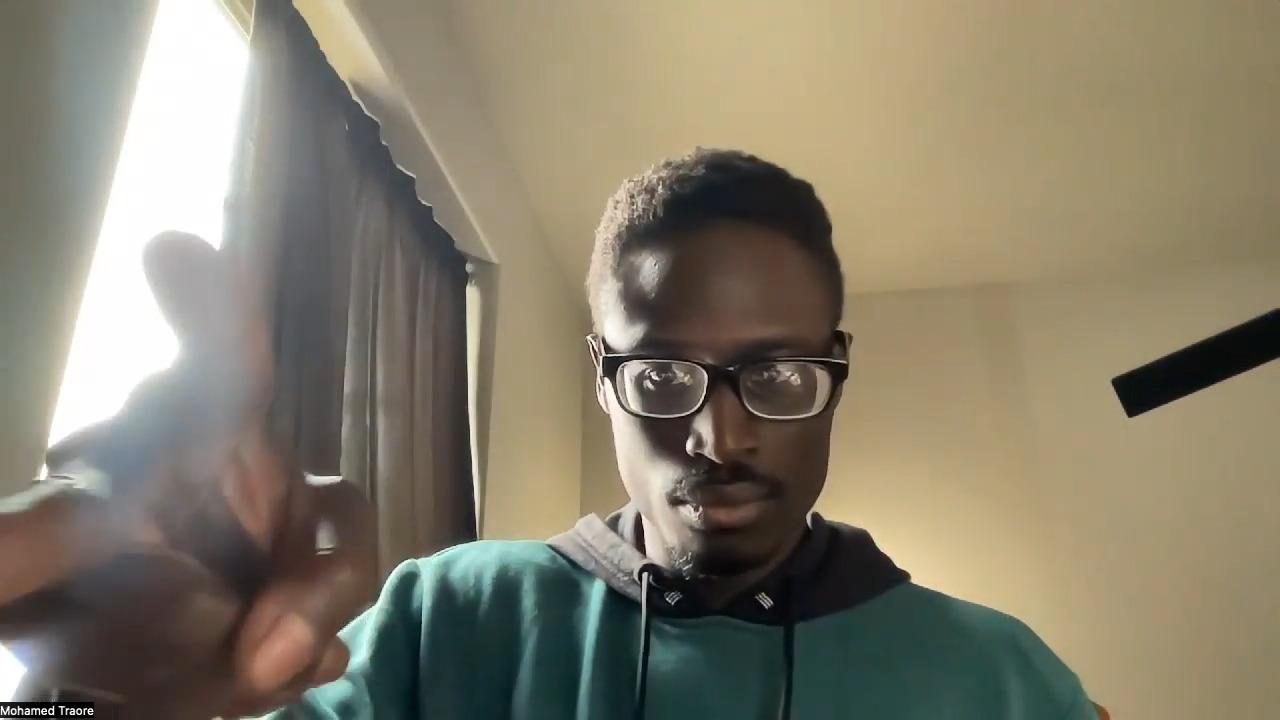Scissors: (0, 227, 378, 720)
